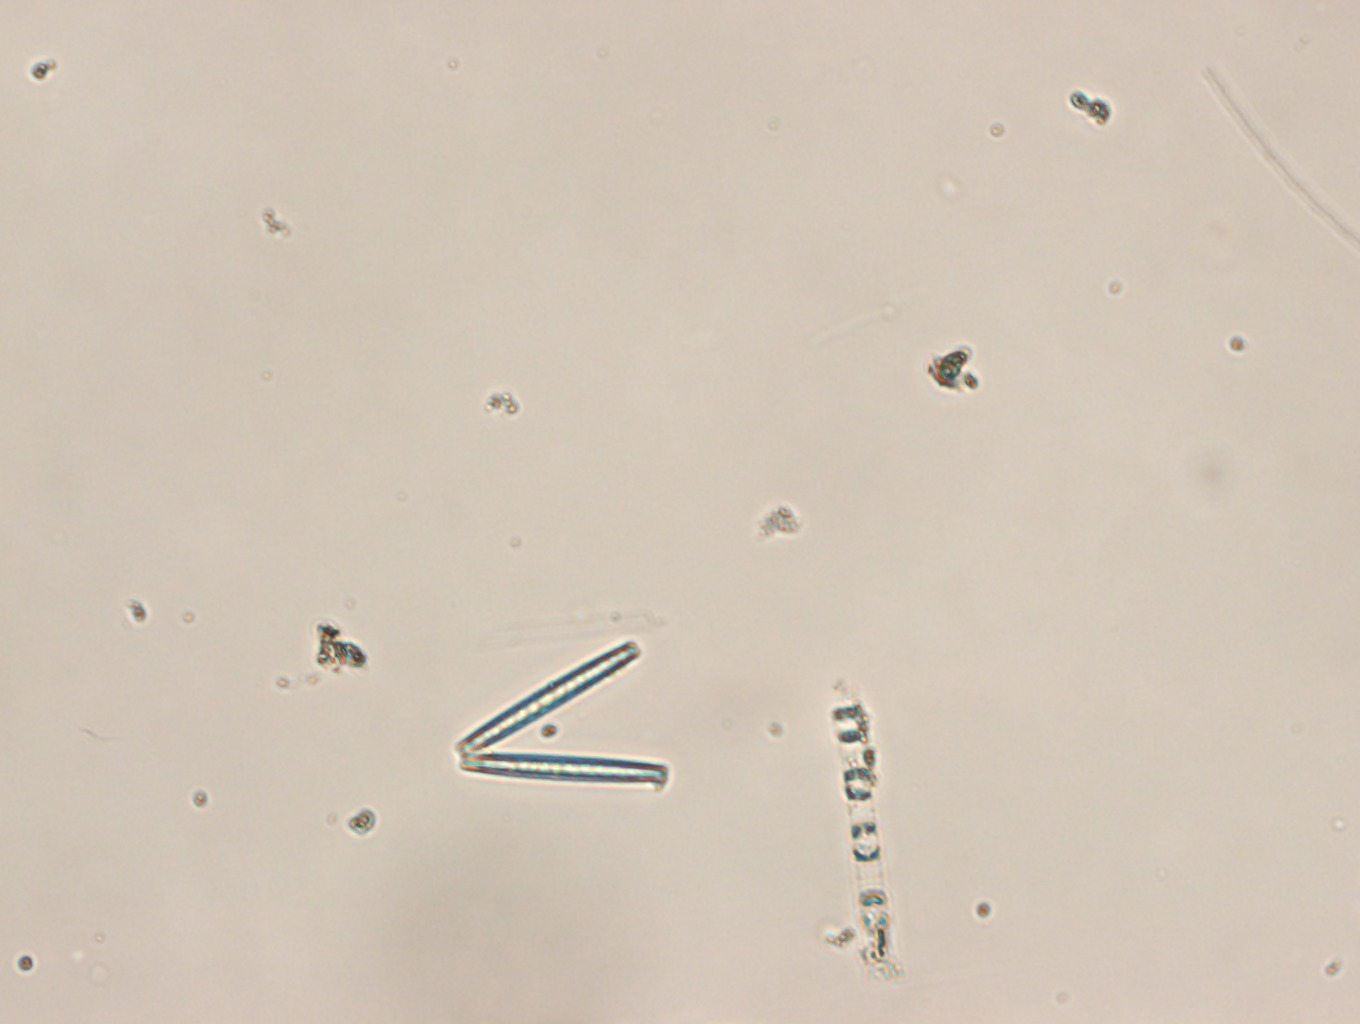skeletonema: (832, 702, 900, 980)
thalassionema nitzschioides: (456, 640, 672, 786)
